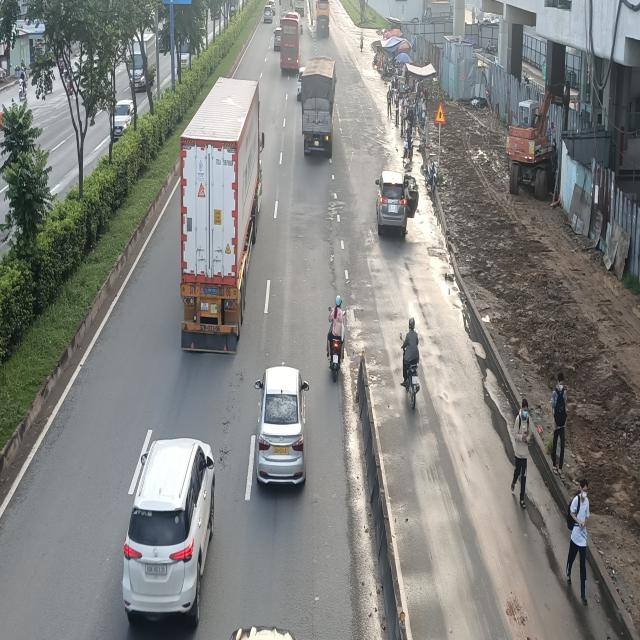car: (120, 440, 216, 627), (253, 366, 307, 488), (374, 171, 409, 238)
coach: (279, 10, 302, 76), (315, 0, 331, 38)
container: (174, 80, 262, 358)
truck: (301, 58, 339, 158)
